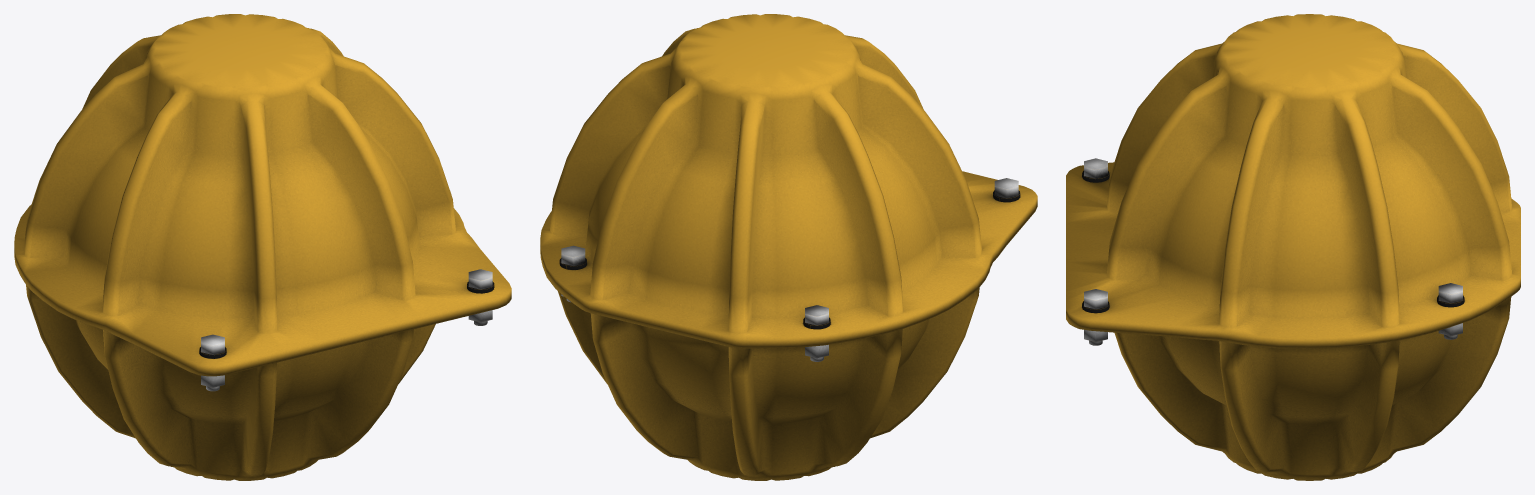
Rendered from hardhat_superribbed.dae.
The picture shows the model from 3 angles, left to right: view 1: azimuth 30°, elevation 25°; view 2: azimuth 150°, elevation 25°; view 3: azimuth 270°, elevation 25°; orthographic projection.
Parts seen in each view (by area): view 1: Hardhat - Super-Ribbed; view 2: Hardhat - Super-Ribbed; view 3: Hardhat - Super-Ribbed.
Part boxes in pixels (x1,y1,x2,y2): Hardhat - Super-Ribbed: (14, 14, 511, 480); Hardhat - Super-Ribbed: (540, 14, 1037, 480); Hardhat - Super-Ribbed: (1066, 14, 1520, 480).
Size of the model in its own units: 0.5548 by 0.5549 by 0.542.
Materials: 1 (1 with a texture image).
